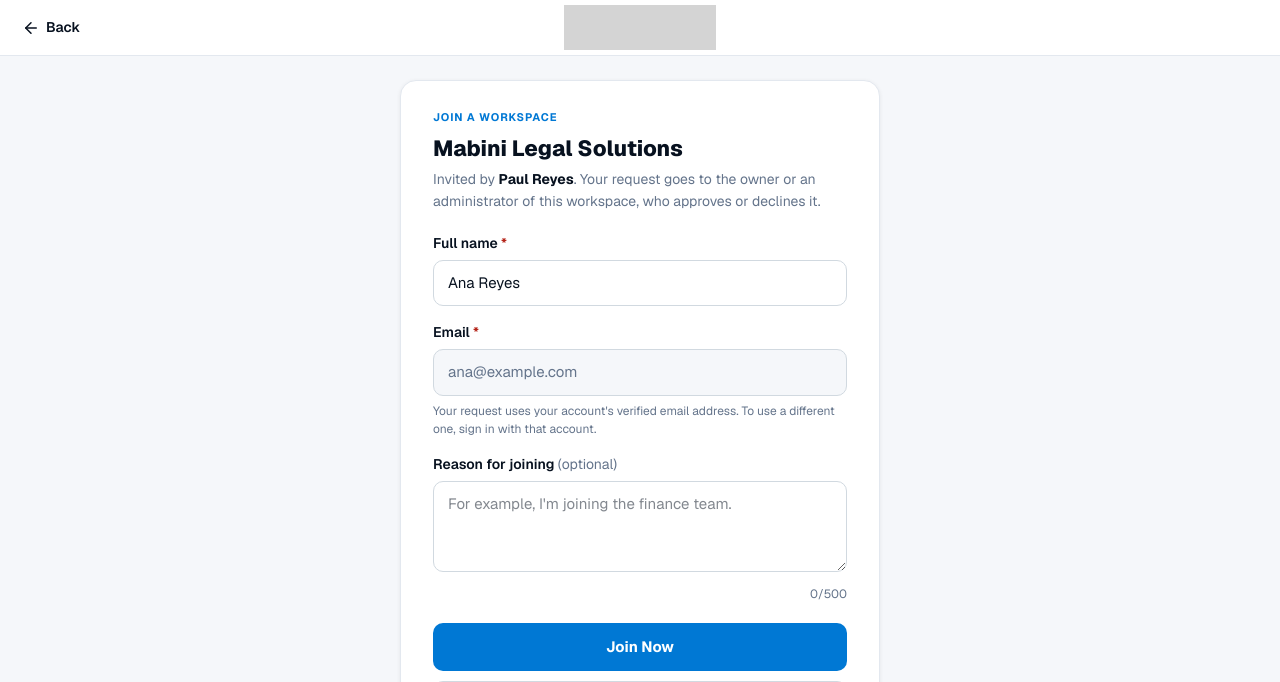
Test: JoinWorkspace › shows the email-not-verified state
The width and height of the screenshot is (1280, 682).
Expected: the heading "Mabini Legal Solutions" is shown, [433,134,683,162]
Click the button "Join Now": (640, 647) [433,623,847,671]
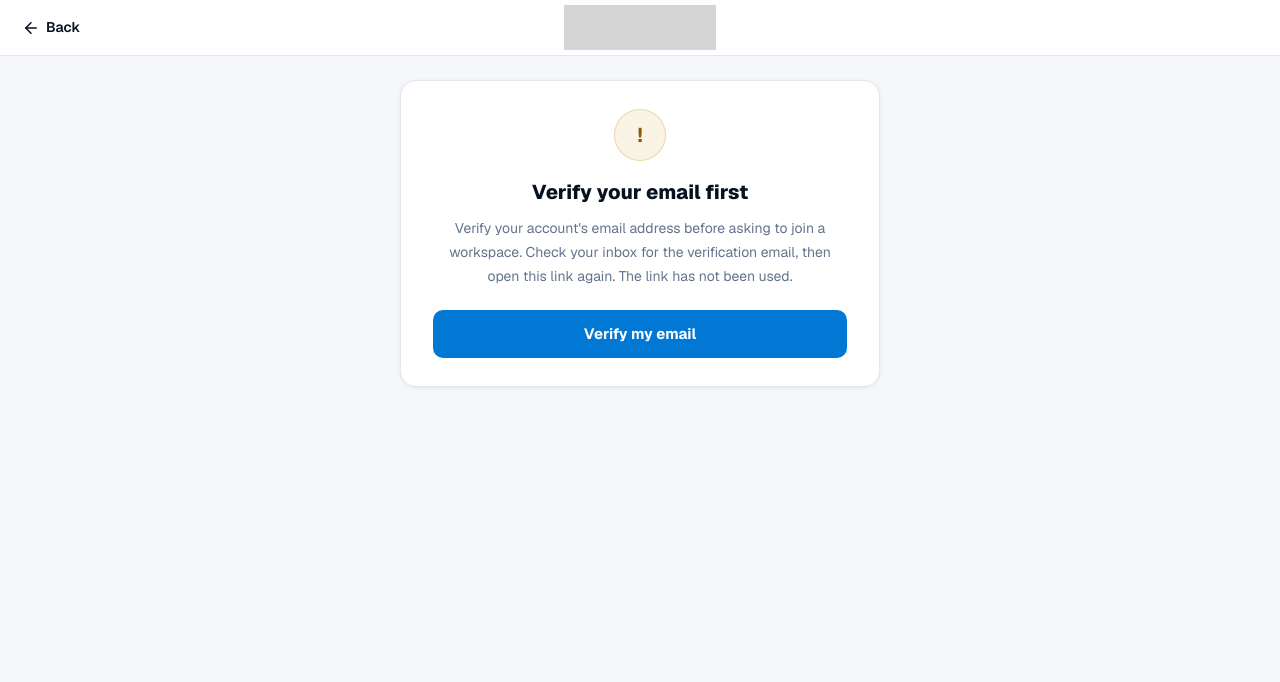
Result: the heading "Verify your email first" is shown at [532,179,748,205]
